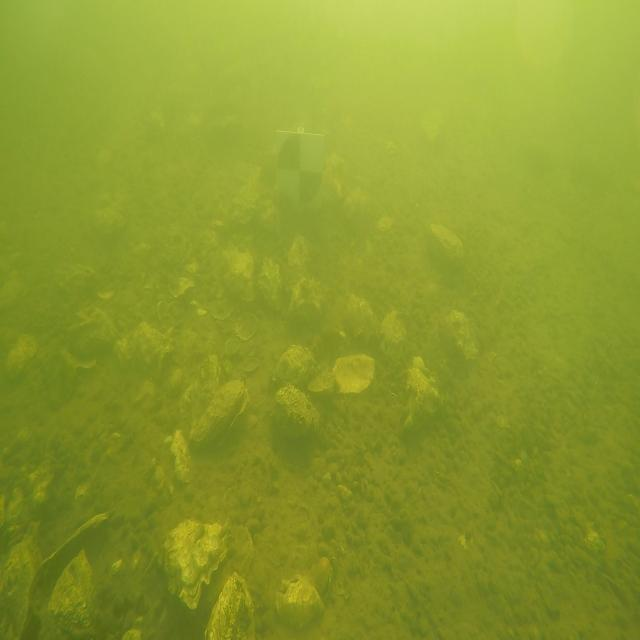Oyster-Closed: (164, 520, 232, 609), (0, 522, 41, 639), (316, 293, 381, 362), (205, 573, 255, 640), (115, 322, 172, 370), (405, 356, 441, 429), (276, 576, 324, 629), (275, 384, 319, 438), (426, 222, 464, 273), (289, 278, 324, 333), (224, 247, 254, 302), (445, 311, 478, 360), (380, 311, 406, 361), (259, 258, 281, 311), (255, 189, 280, 232), (288, 236, 309, 284)
Oyster-Open: (22, 513, 109, 640), (190, 380, 249, 444), (309, 353, 375, 393)
